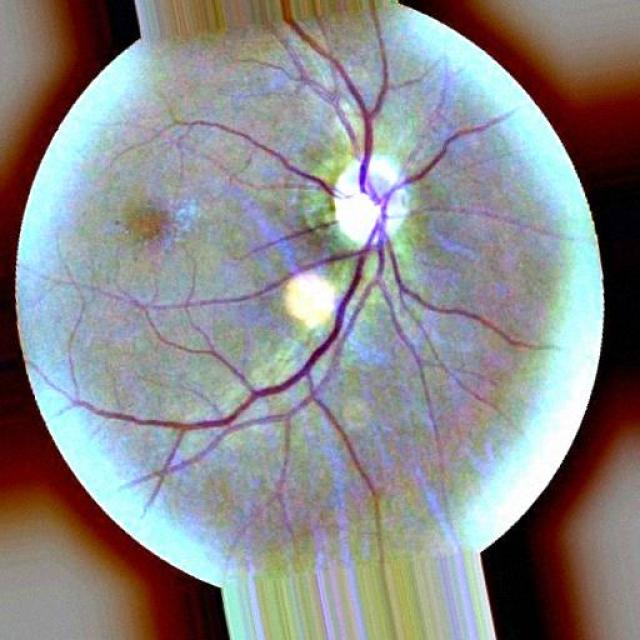Nerves: (71, 0, 528, 504)
Optic Disk: (332, 155, 410, 249)
